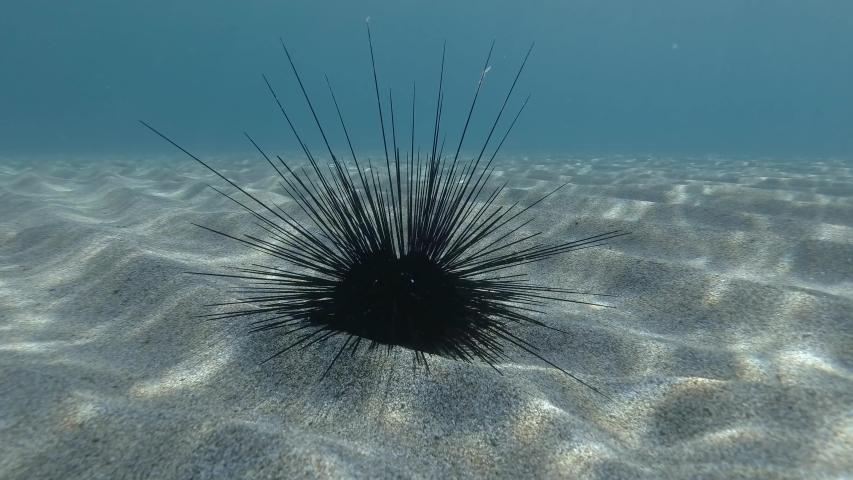urchin: (146, 23, 620, 400)
